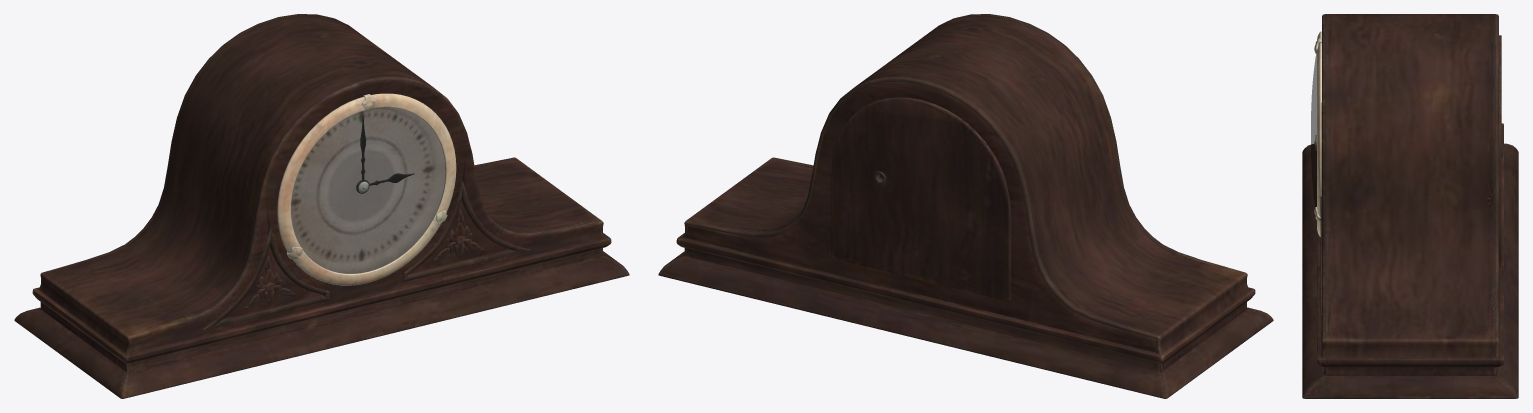
The model's file is ph_mantel_clock_01.glb.
The picture shows the model from 3 angles, left to right: view 1: azimuth 30°, elevation 25°; view 2: azimuth 150°, elevation 25°; view 3: azimuth 270°, elevation 25°; orthographic projection.
Parts seen in each view (by area): view 1: mantel_clock_01; view 2: mantel_clock_01; view 3: mantel_clock_01.
Boxes of the visible parts, x1,y1,x2,y2 form: mantel_clock_01: (14, 14, 629, 398); mantel_clock_01: (658, 14, 1273, 398); mantel_clock_01: (1302, 14, 1518, 398).
Size of the model in its own units: 0.3423 by 0.1605 by 0.1261.
Materials: 2 (2 with a texture image).
